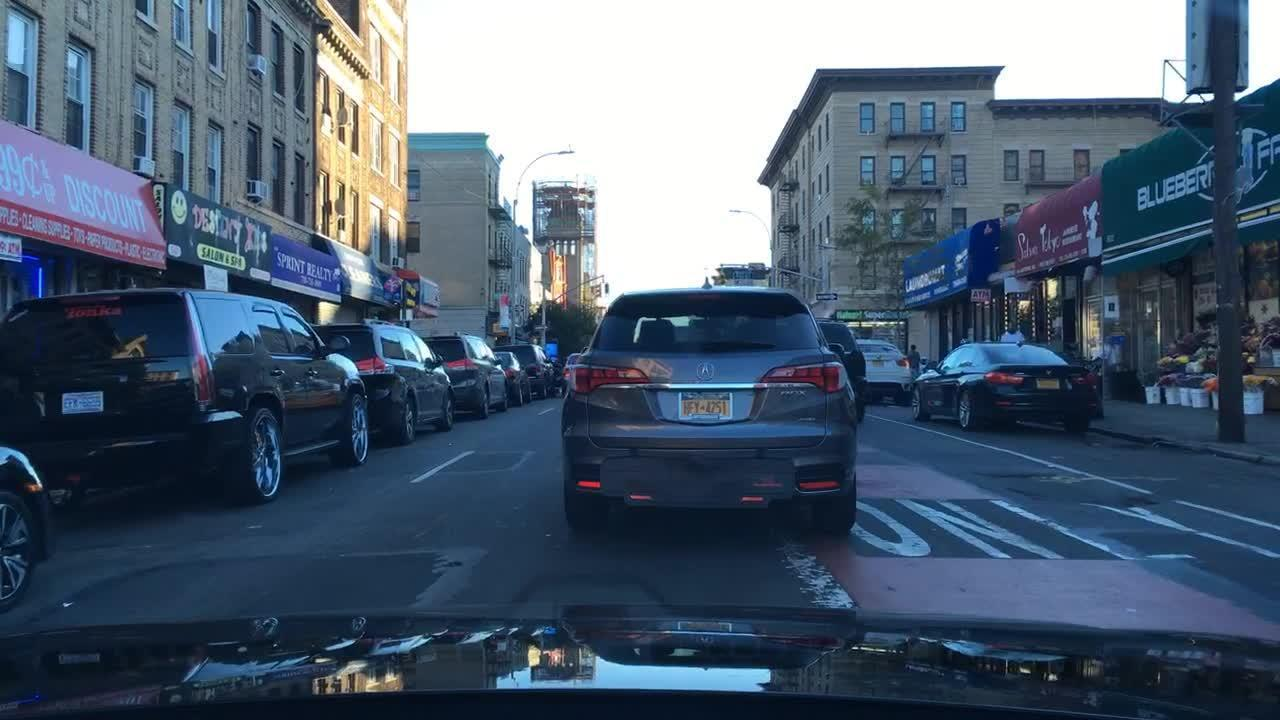acura: (688, 357, 726, 392)
